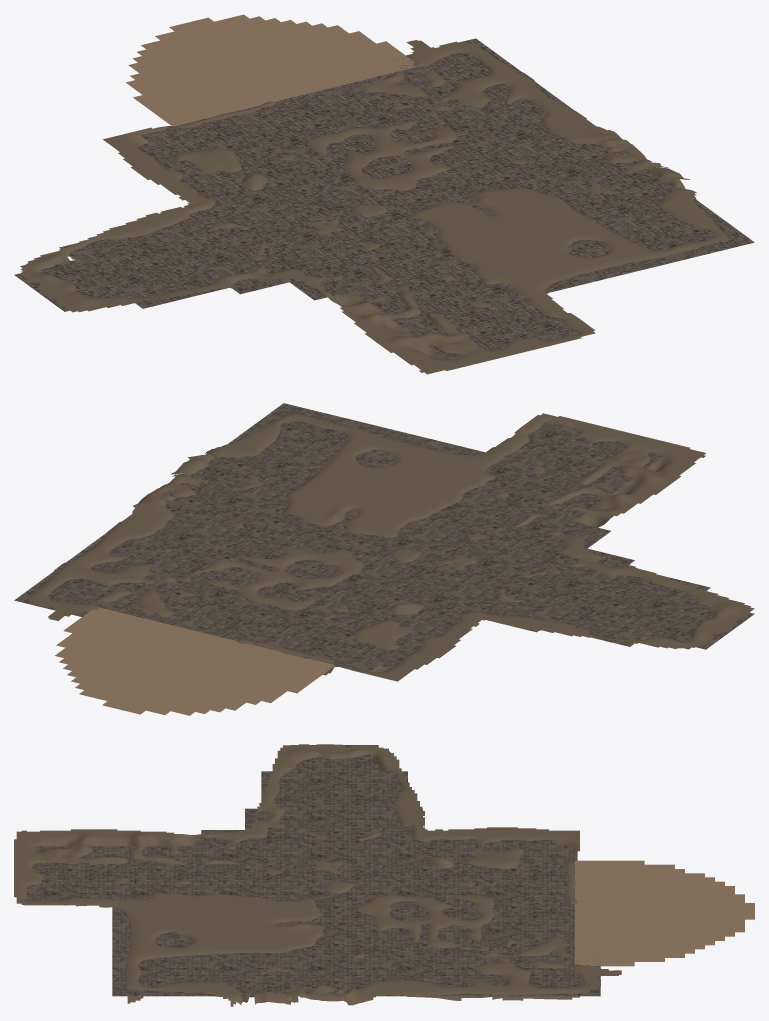
File: Suelo_Ciudad_Inicial.fbx
The picture shows the model from 3 angles, top to bottom: view 1: azimuth 30°, elevation 25°; view 2: azimuth 150°, elevation 25°; view 3: azimuth 270°, elevation 25°; orthographic projection. The views are drawn at different scales.
Visible parts, largest first — view 1: Plane.075, Retopo_Plane_level1.015, Retopo_Plane_level1.014, Retopo_Plane_level1.006, Retopo_Plane_level1.009, Retopo_Plane_level1.011, Retopo_Plane_level1.013, Retopo_Plane_level1.010, Plane.057, Plane.052, Plane.058, Plane.059 (+31 smaller); view 2: Plane.075, Retopo_Plane_level1.015, Retopo_Plane_level1.014, Retopo_Plane_level1.006, Retopo_Plane_level1.011, Retopo_Plane_level1.009, Retopo_Plane_level1.013, Retopo_Plane_level1.010, Plane.057, Plane.052, Plane.058, Plane.059 (+31 smaller); view 3: Plane.075, Retopo_Plane_level1.015, Retopo_Plane_level1.014, Retopo_Plane_level1.006, Retopo_Plane_level1.011, Retopo_Plane_level1.009, Retopo_Plane_level1.013, Retopo_Plane_level1.010, Plane.057, Plane.058, Plane.052, Plane.065 (+31 smaller).
Boxes of the visible parts, bbox=[...] form: Plane.075: bbox=[125, 14, 415, 126]; Retopo_Plane_level1.015: bbox=[395, 109, 696, 239]; Retopo_Plane_level1.014: bbox=[317, 40, 572, 185]; Retopo_Plane_level1.006: bbox=[475, 195, 728, 288]; Retopo_Plane_level1.009: bbox=[20, 197, 308, 312]; Retopo_Plane_level1.011: bbox=[364, 289, 595, 374]; Retopo_Plane_level1.013: bbox=[103, 101, 399, 194]; Retopo_Plane_level1.010: bbox=[302, 243, 550, 330]; Plane.057: bbox=[76, 238, 213, 296]; Plane.052: bbox=[302, 232, 440, 290]; Plane.058: bbox=[164, 217, 301, 275]; Plane.059: bbox=[252, 195, 389, 253]; Plane.075: bbox=[55, 607, 335, 715]; Retopo_Plane_level1.015: bbox=[108, 445, 417, 557]; Retopo_Plane_level1.014: bbox=[28, 530, 348, 628]; Retopo_Plane_level1.006: bbox=[223, 413, 474, 501]; Retopo_Plane_level1.011: bbox=[477, 413, 706, 495]; Retopo_Plane_level1.009: bbox=[471, 541, 754, 649]; Retopo_Plane_level1.013: bbox=[237, 553, 472, 681]; Retopo_Plane_level1.010: bbox=[426, 454, 650, 544]; Plane.057: bbox=[561, 578, 694, 634]; Plane.052: bbox=[441, 501, 573, 557]; Plane.058: bbox=[477, 558, 609, 614]; Plane.059: bbox=[392, 537, 524, 593]; Plane.075: bbox=[574, 860, 754, 966]; Retopo_Plane_level1.015: bbox=[219, 903, 431, 1006]; Retopo_Plane_level1.014: bbox=[370, 902, 621, 1000]; Retopo_Plane_level1.006: bbox=[122, 905, 245, 1003]; Retopo_Plane_level1.011: bbox=[14, 829, 128, 908]; Retopo_Plane_level1.009: bbox=[238, 744, 439, 836]; Retopo_Plane_level1.013: bbox=[364, 827, 579, 904]; Retopo_Plane_level1.010: bbox=[117, 830, 248, 914]; Plane.057: bbox=[290, 771, 378, 808]; Plane.058: bbox=[290, 808, 378, 846]; Plane.052: bbox=[201, 846, 289, 883]; Plane.065: bbox=[378, 846, 467, 883].
Bounding box in the file's own units: 14232 × 377 × 17198.
